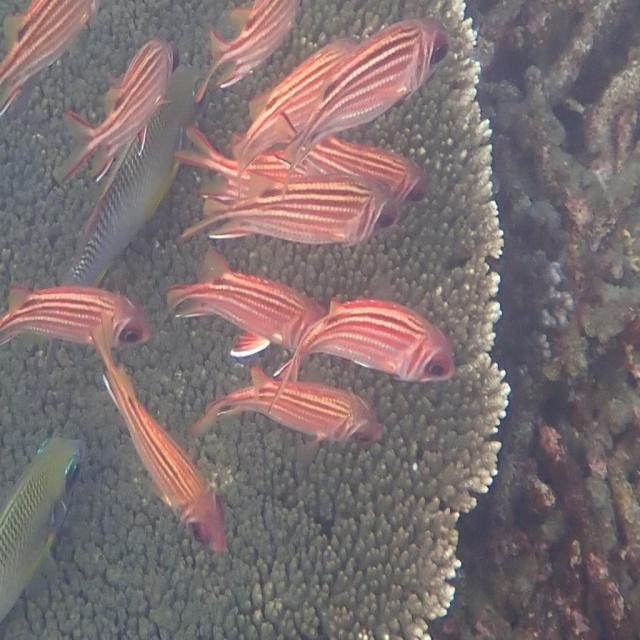Asker Baligi: (79, 298, 236, 569), (293, 3, 462, 162), (53, 25, 189, 212), (263, 286, 474, 385), (0, 257, 160, 360)
